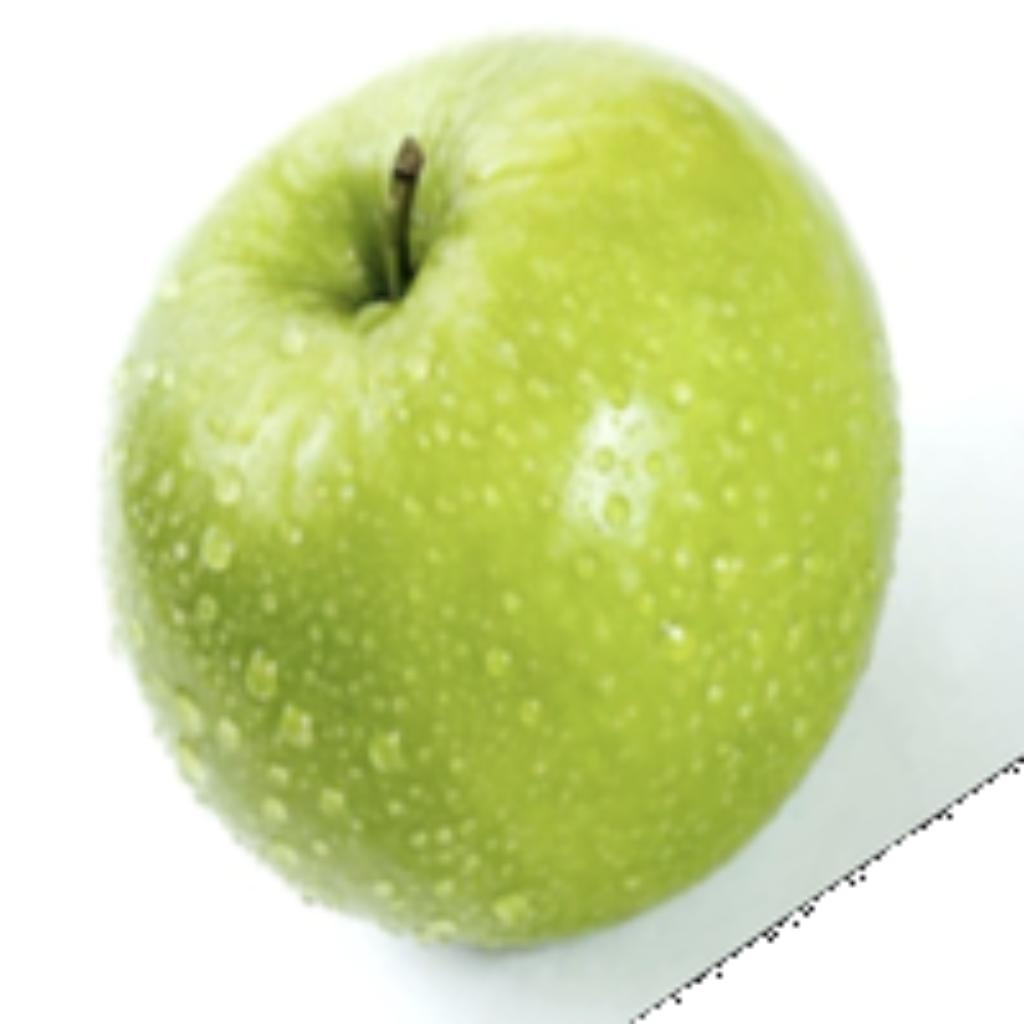apple: (92, 20, 906, 1014)
